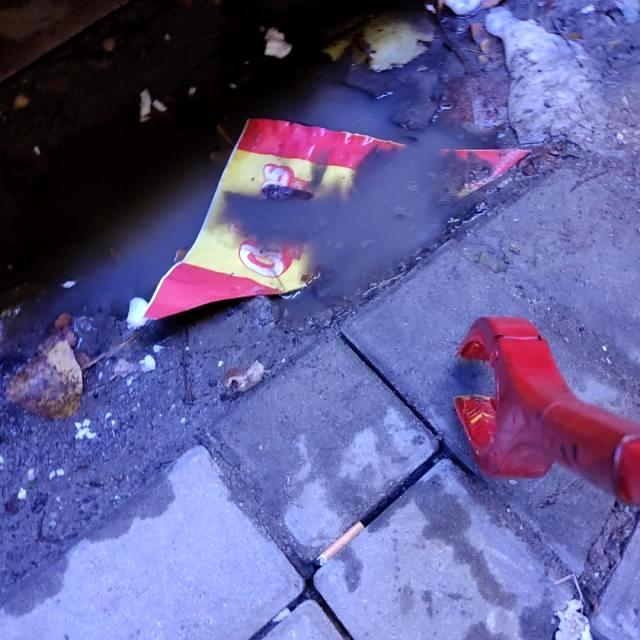Paper: (134, 115, 536, 323)
